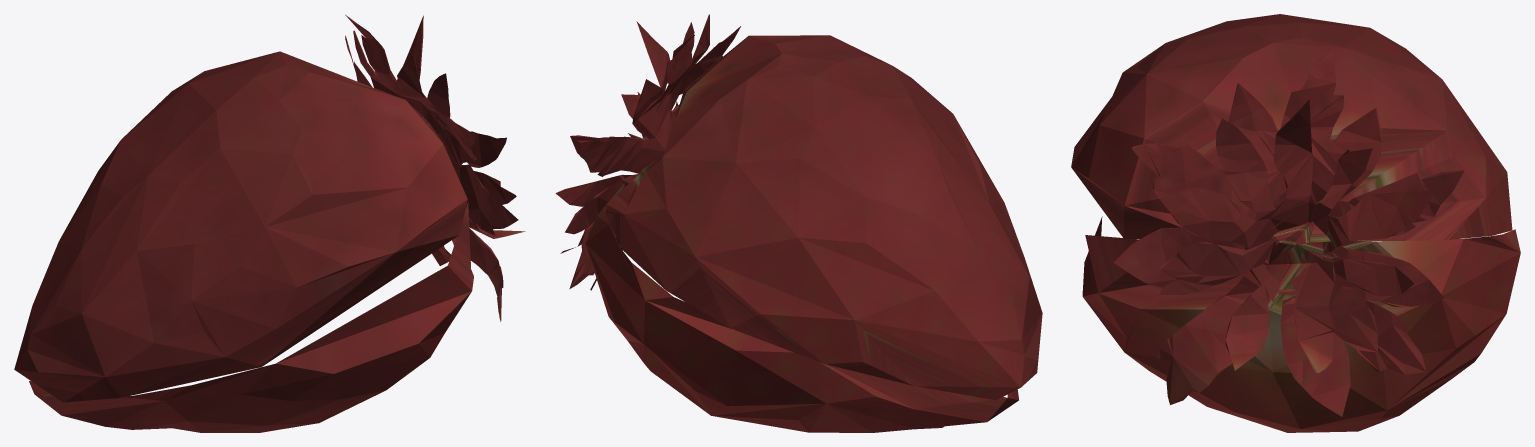
Rendered from food_produce_strawberry_a01.glb.
3 views of the same model, side by side, from view 1: azimuth 30°, elevation 25°; view 2: azimuth 150°, elevation 25°; view 3: azimuth 270°, elevation 25° (orthographic). The views are drawn at different scales.
Parts seen in each view (by area): view 1: geometry_0; view 2: geometry_0; view 3: geometry_0.
Part boxes in pixels (x1=…): geometry_0: x1=14, y1=14, x2=525, y2=432; geometry_0: x1=555, y1=14, x2=1042, y2=432; geometry_0: x1=1071, y1=14, x2=1520, y2=432.
Bounding box in the file's own units: 0.42 × 0.3118 × 0.3119.
1 material, 1 textured.
